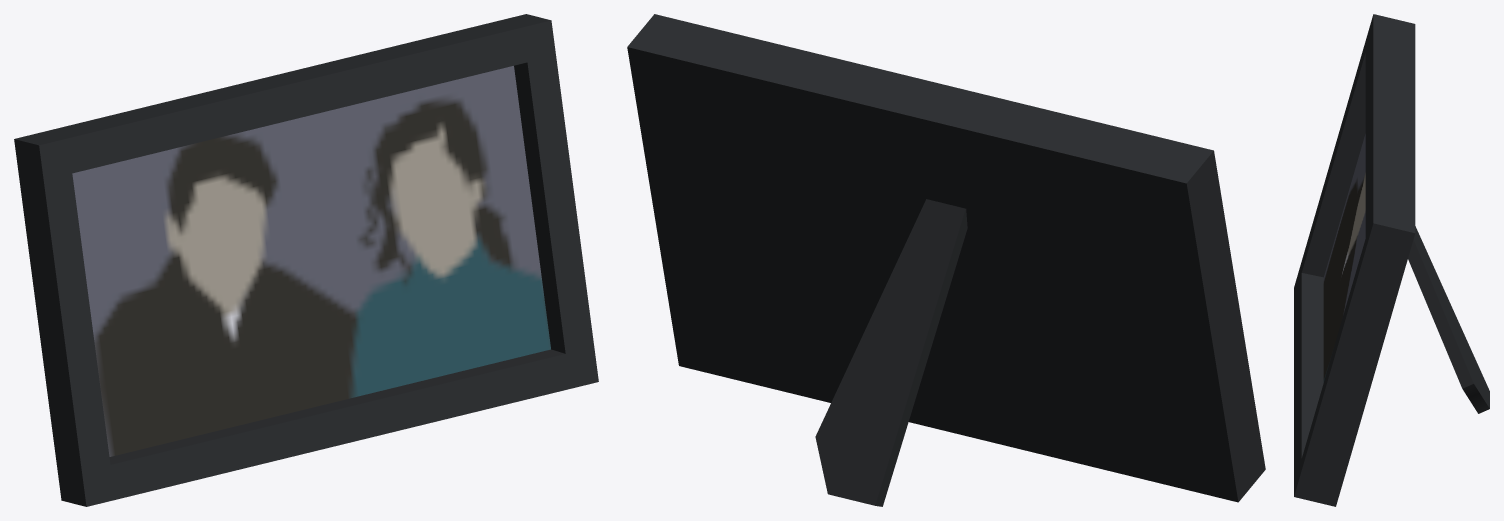
Rendered from SM_Prop_Photo_06.glb.
3 views of the same model, side by side, from view 1: azimuth 30°, elevation 25°; view 2: azimuth 150°, elevation 25°; view 3: azimuth 270°, elevation 25° (orthographic). The views are drawn at different scales.
Parts seen in each view (by area): view 1: SM_Prop_Photo_06; view 2: SM_Prop_Photo_06; view 3: SM_Prop_Photo_06.
Boxes of the visible parts, left/top/right/bottom form: SM_Prop_Photo_06: left=14, top=14, right=598, bottom=506; SM_Prop_Photo_06: left=627, top=14, right=1265, bottom=506; SM_Prop_Photo_06: left=1294, top=14, right=1489, bottom=506.
Bounding box in the file's own units: 0.4443 × 0.2811 × 0.1757.
1 material, 1 textured.
